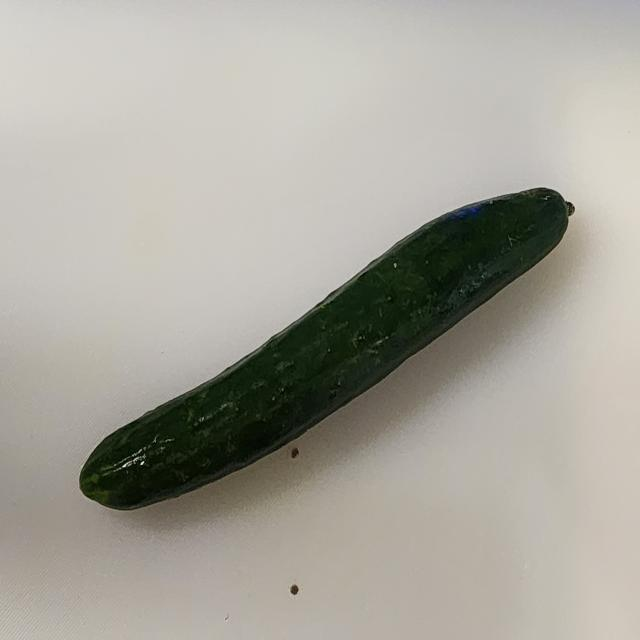cucumber: (78, 185, 575, 512)
